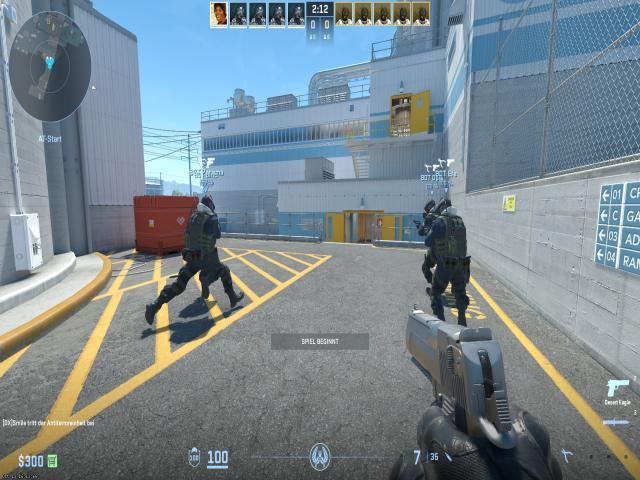CT: (434, 197, 469, 327), (184, 192, 218, 301), (422, 196, 440, 296)
CT-Head: (436, 196, 452, 218), (201, 195, 215, 212), (426, 198, 437, 217)
